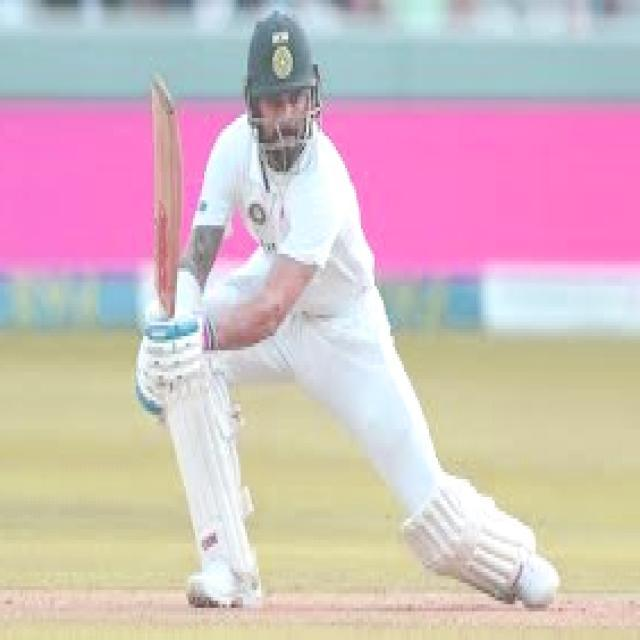bat: (148, 68, 176, 317)
toe: (149, 68, 176, 112)
